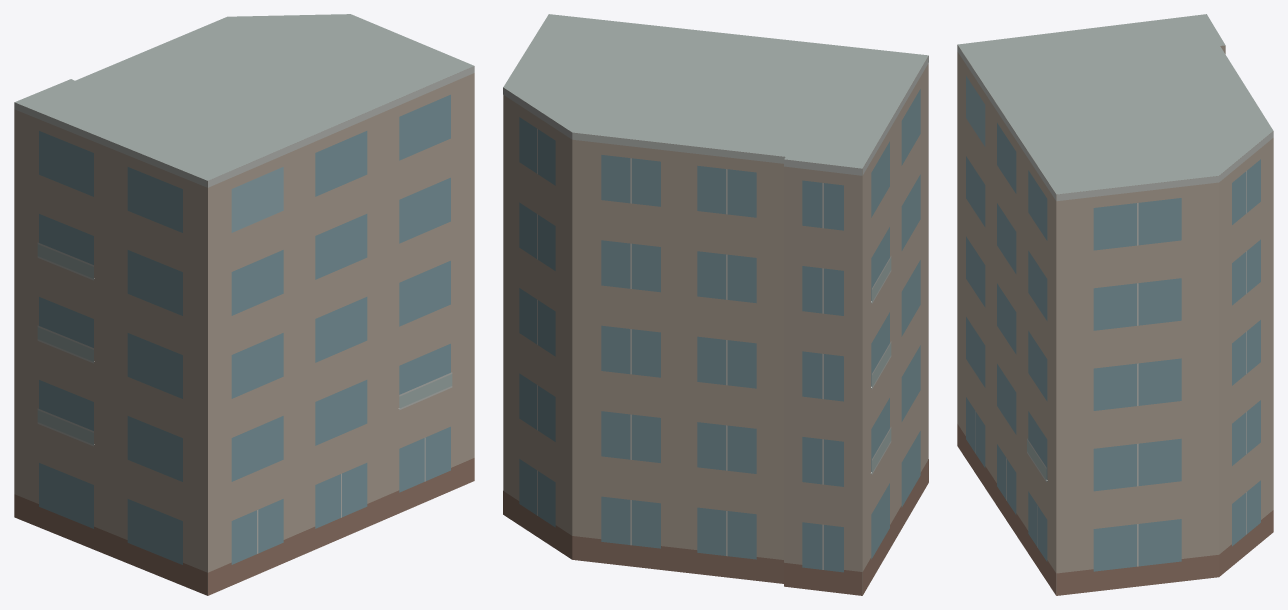
File: survey-upis-32957962.glb
The picture shows the model from 3 angles, left to right: view 1: azimuth 30°, elevation 25°; view 2: azimuth 150°, elevation 25°; view 3: azimuth 270°, elevation 25°; orthographic projection. The views are drawn at different scales.
Parts seen in each view (by area): view 1: survey-upis-32957962.tmp; view 2: survey-upis-32957962.tmp; view 3: survey-upis-32957962.tmp.
Boxes of the visible parts, bbox=[...] form: survey-upis-32957962.tmp: bbox=[14, 14, 474, 595]; survey-upis-32957962.tmp: bbox=[503, 14, 928, 595]; survey-upis-32957962.tmp: bbox=[957, 14, 1273, 595].
Bounding box in the file's own units: 14 × 14.5 × 10.36.
